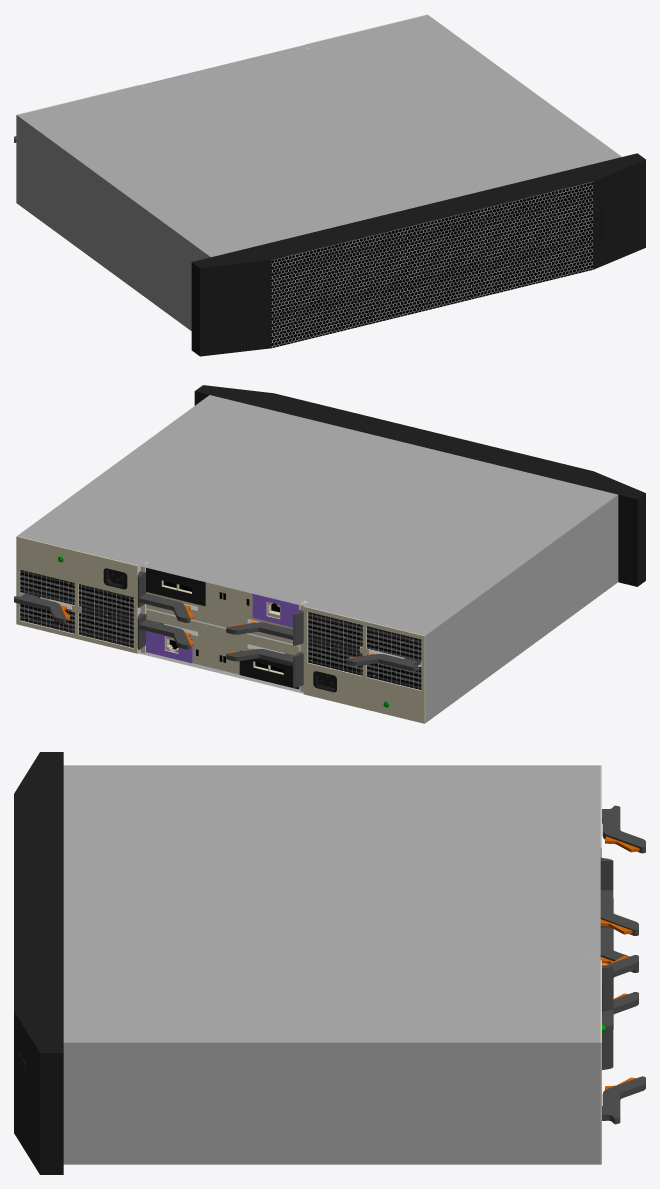
The model's file is DELL EMC_VNX 2U Disk Array Enclosure.fbx.
The picture shows the model from 3 angles, top to bottom: view 1: azimuth 30°, elevation 25°; view 2: azimuth 150°, elevation 25°; view 3: azimuth 270°, elevation 25°; orthographic projection. The views are drawn at different scales.
Parts seen in each view (by area): view 1: VNX 2U Disk Array Enclosure; view 2: VNX 2U Disk Array Enclosure; view 3: VNX 2U Disk Array Enclosure.
Boxes of the visible parts, bbox=[...] form: VNX 2U Disk Array Enclosure: bbox=[14, 14, 645, 356]; VNX 2U Disk Array Enclosure: bbox=[14, 385, 645, 723]; VNX 2U Disk Array Enclosure: bbox=[14, 752, 645, 1174].
Bounding box in the file's own units: 471 × 89 × 418.
10 materials, 2 textured.
